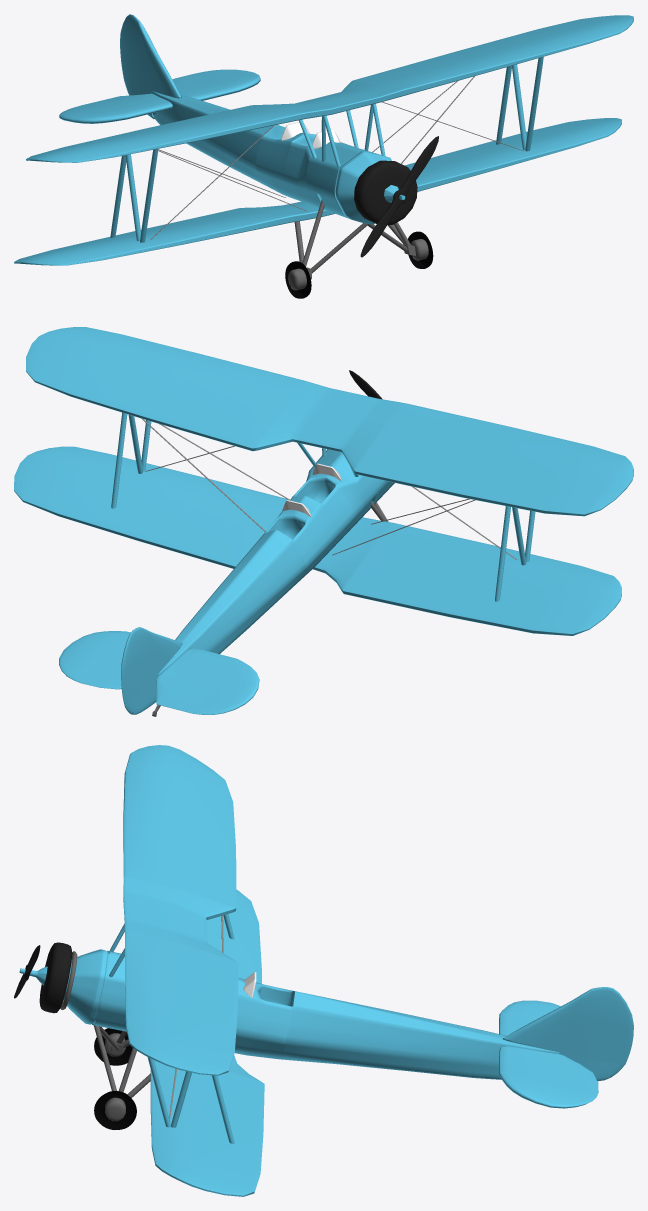
Rendered from airplane.fbx.
3 views of the same model, one above another, from view 1: azimuth 30°, elevation 25°; view 2: azimuth 150°, elevation 25°; view 3: azimuth 270°, elevation 25° (orthographic). The views are drawn at different scales.
Visible parts, largest first — view 1: pCube2, pCube3, pCube1, pCube5, pCube6, polySurface19, polySurface30, pCylinder10, polySurface26, polySurface27, pCylinder2, polySurface25 (+5 smaller); view 2: pCube2, pCube3, pCube1, polySurface19, pCube5, polySurface30, polySurface23, polySurface22; view 3: pCube2, pCube1, pCube3, pCube5, polySurface30, pCube6, polySurface19, nurbsToPoly1.
Boxes of the visible parts, x1,y1,x2,y2 form: pCube2: (26,15,633,162); pCube3: (14,118,621,265); pCube1: (151,91,405,224); pCube5: (120,14,181,118); pCube6: (354,160,417,224); polySurface19: (59,93,172,123); polySurface30: (172,69,260,100); pCylinder10: (360,136,438,257); polySurface26: (525,57,543,151); polySurface27: (140,149,158,242); pCylinder2: (311,223,407,273); polySurface25: (125,154,140,241); pCube2: (26,327,633,516); pCube3: (14,446,621,635); pCube1: (158,449,394,676); polySurface19: (156,648,259,714); pCube5: (121,627,182,714); polySurface30: (59,631,130,689); polySurface23: (495,506,510,601); polySurface22: (111,412,127,508); pCube2: (123,745,238,1075); pCube1: (19,949,559,1079); pCube3: (150,889,264,1196); pCube5: (502,987,633,1081); polySurface30: (499,1046,598,1108); pCube6: (39,942,72,1013); polySurface19: (499,1000,560,1035); nurbsToPoly1: (94,1091,136,1129).
Bounding box in the file's own units: 8.72 × 2.56 × 7.22.
